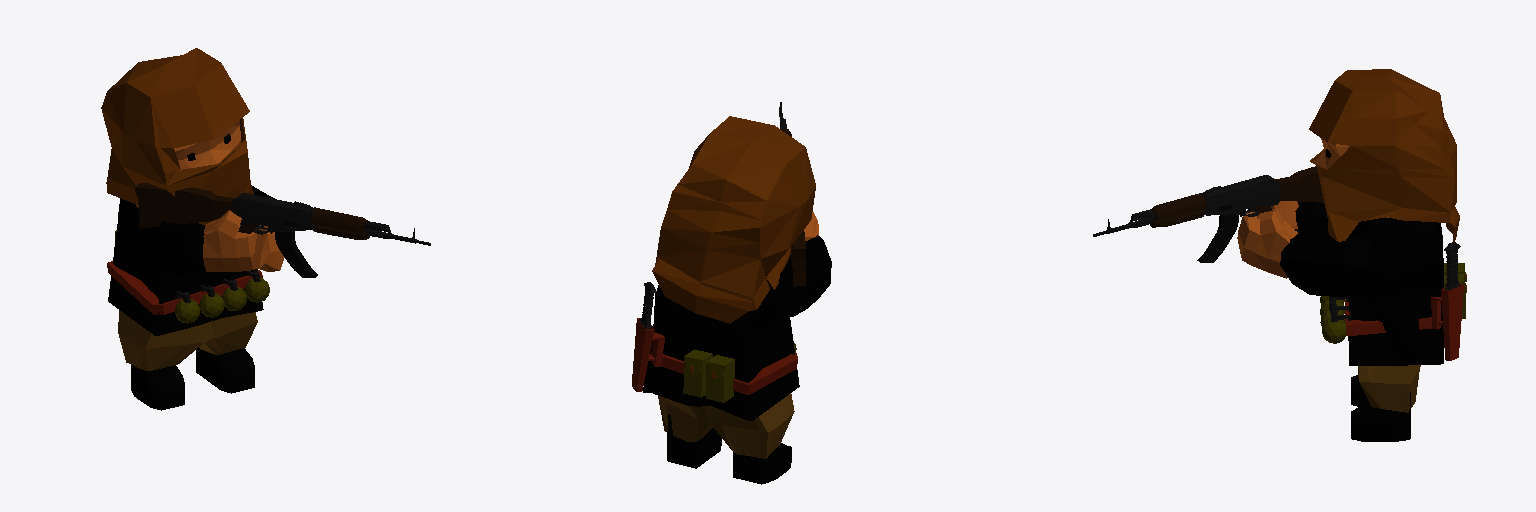
The model's file is terrorist.obj.
The picture shows the model from 3 angles: view 1: azimuth 30°, elevation 25°; view 2: azimuth 150°, elevation 25°; view 3: azimuth 270°, elevation 25°; orthographic projection.
Visible parts, largest first — view 1: Cube.058_Cube.3249; view 2: Cube.058_Cube.3249; view 3: Cube.058_Cube.3249.
Boxes of the visible parts, <box> form: Cube.058_Cube.3249: <box>101,48,430,410</box>; Cube.058_Cube.3249: <box>632,102,831,484</box>; Cube.058_Cube.3249: <box>1093,69,1466,441</box>.
Size of the model in its own units: 0.4179 by 0.8081 by 0.8237.